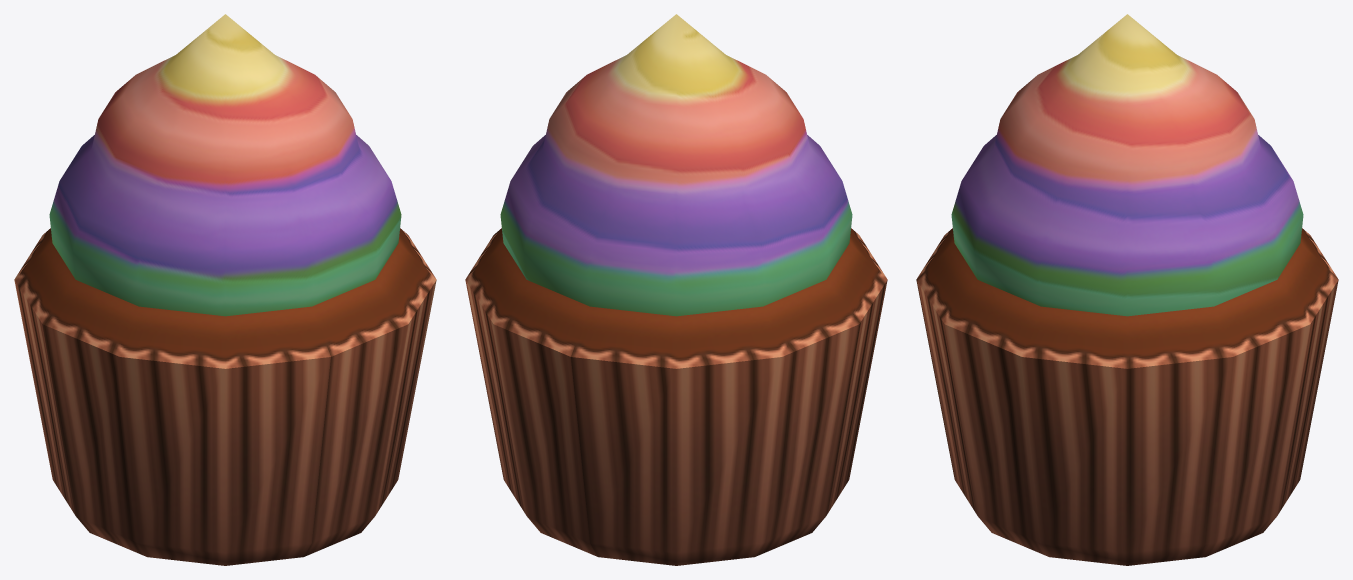
File: 009-Cupcakes_001.FBX
3 views of the same model, side by side, from view 1: azimuth 30°, elevation 25°; view 2: azimuth 150°, elevation 25°; view 3: azimuth 270°, elevation 25° (orthographic).
Visible parts, largest first — view 1: 009-Cupcakes_001; view 2: 009-Cupcakes_001; view 3: 009-Cupcakes_001.
Boxes of the visible parts, x1,y1,x2,y2 form: 009-Cupcakes_001: (14,14,436,565); 009-Cupcakes_001: (465,14,887,565); 009-Cupcakes_001: (916,14,1338,565).
Size of the model in its own units: 12.34 by 15.65 by 12.34.
